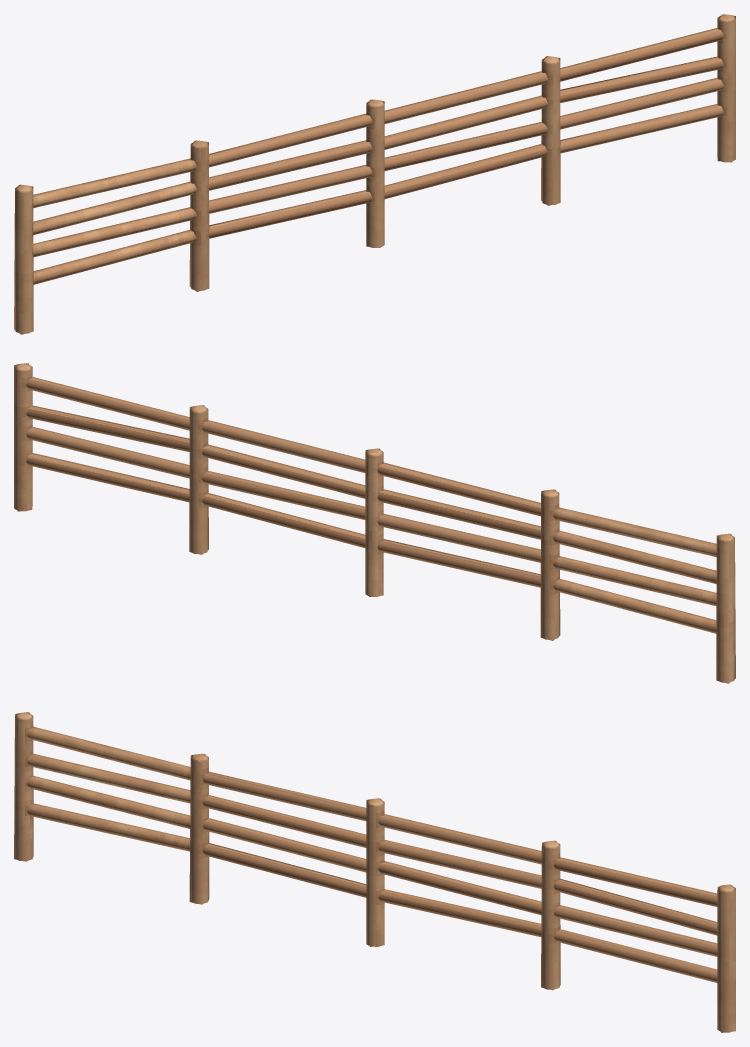
File: objects_un_woodenfence02.gltf
3 renders of one model, top to bottom at view 1: azimuth 30°, elevation 25°; view 2: azimuth 150°, elevation 25°; view 3: azimuth 330°, elevation 25°, orthographic.
Parts seen in each view (by area): view 1: um_objects_un_woodenfence02_model_lod0Shape:objects_un_woode, um_objects_un_woodenfence02_model_lod1Shape:objects_un_woode; view 2: um_objects_un_woodenfence02_model_lod0Shape:objects_un_woode, um_objects_un_woodenfence02_model_lod1Shape:objects_un_woode; view 3: um_objects_un_woodenfence02_model_lod0Shape:objects_un_woode, um_objects_un_woodenfence02_model_lod1Shape:objects_un_woode.
Boxes of the visible parts, x1,y1,x2,y2 form: um_objects_un_woodenfence02_model_lod0Shape:objects_un_woode: (15, 14, 735, 333); um_objects_un_woodenfence02_model_lod1Shape:objects_un_woode: (14, 14, 735, 334); um_objects_un_woodenfence02_model_lod0Shape:objects_un_woode: (14, 363, 734, 682); um_objects_un_woodenfence02_model_lod1Shape:objects_un_woode: (14, 363, 735, 683); um_objects_un_woodenfence02_model_lod0Shape:objects_un_woode: (15, 712, 735, 1032); um_objects_un_woodenfence02_model_lod1Shape:objects_un_woode: (14, 712, 735, 1032).
Size of the model in its own units: 7.39 by 1.43 by 0.1877.
Materials: 2 (1 with a texture image).
